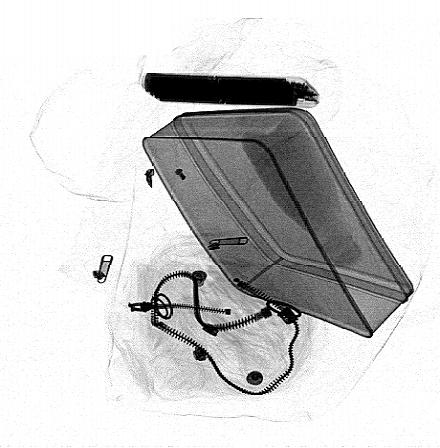Powerbank: (139, 70, 321, 110)
